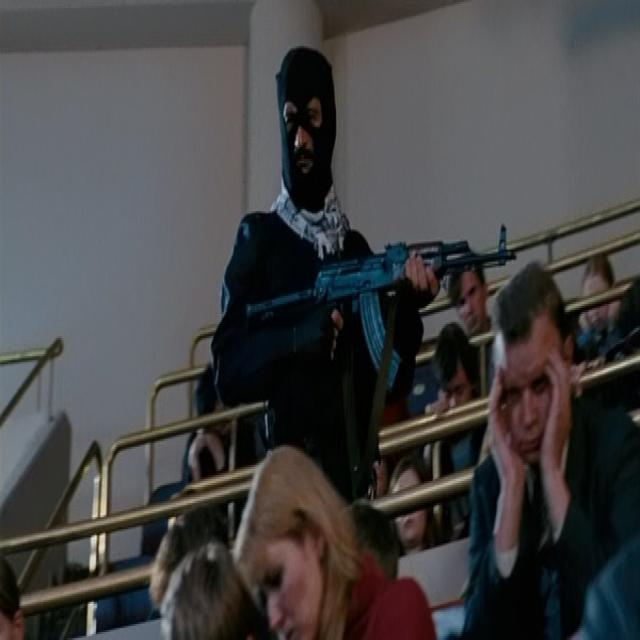rifle: (244, 219, 522, 404)
